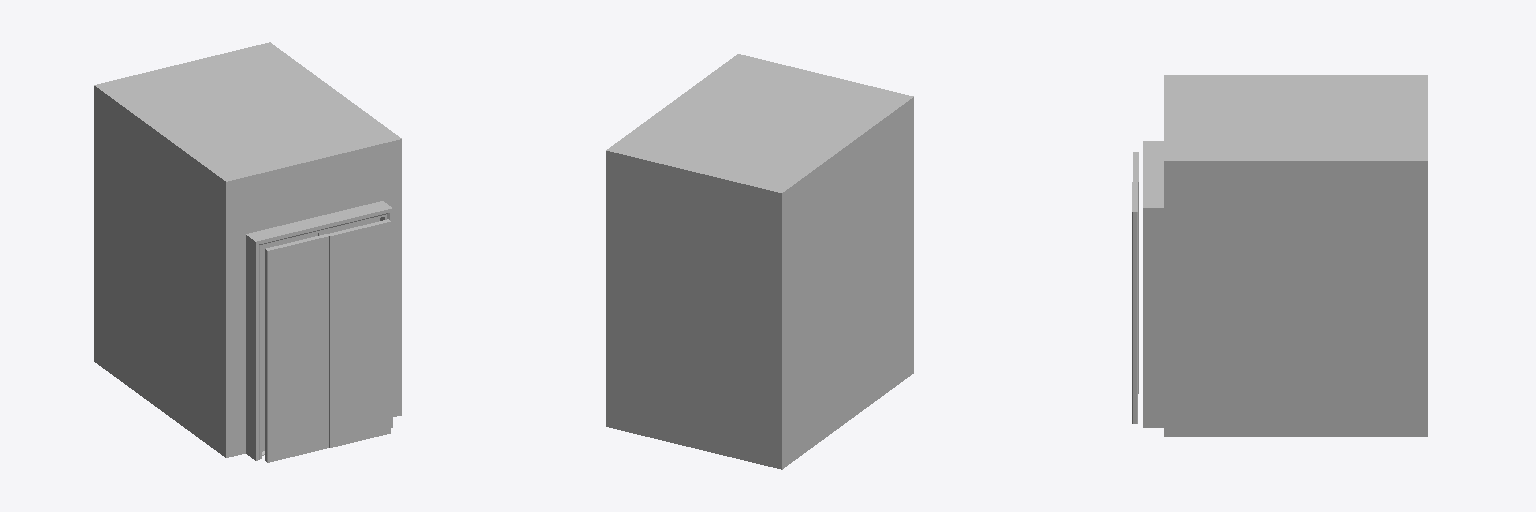
Rendered from elevator_2.obj.
3 renders of one model, left to right at view 1: azimuth 30°, elevation 25°; view 2: azimuth 150°, elevation 25°; view 3: azimuth 270°, elevation 25°, orthographic.
Visible parts, largest first — view 1: elevator_2, elevator_door_3_b, elevator_door_3_a, elevator_door_4_b; view 2: elevator_2; view 3: elevator_2, elevator_door_3_a.
Part boxes in pixels (left/top/right/bottom): elevator_2: left=94, top=42, right=401, bottom=460; elevator_door_3_b: left=265, top=234, right=328, bottom=462; elevator_door_3_a: left=327, top=219, right=390, bottom=447; elevator_door_4_b: left=262, top=233, right=317, bottom=451; elevator_2: left=606, top=54, right=913, bottom=469; elevator_2: left=1143, top=75, right=1427, bottom=436; elevator_door_3_a: left=1132, top=182, right=1137, bottom=423.
Bounding box in the file's own units: 2 × 3 × 2.91.